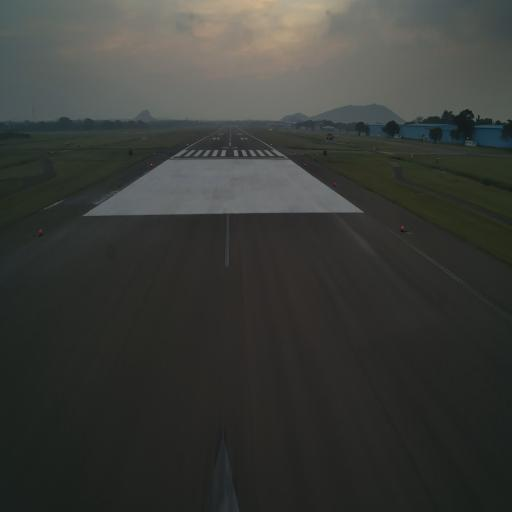off: (118, 180, 121, 188)
on: (37, 225, 44, 235), (400, 223, 405, 233), (333, 179, 337, 187)
